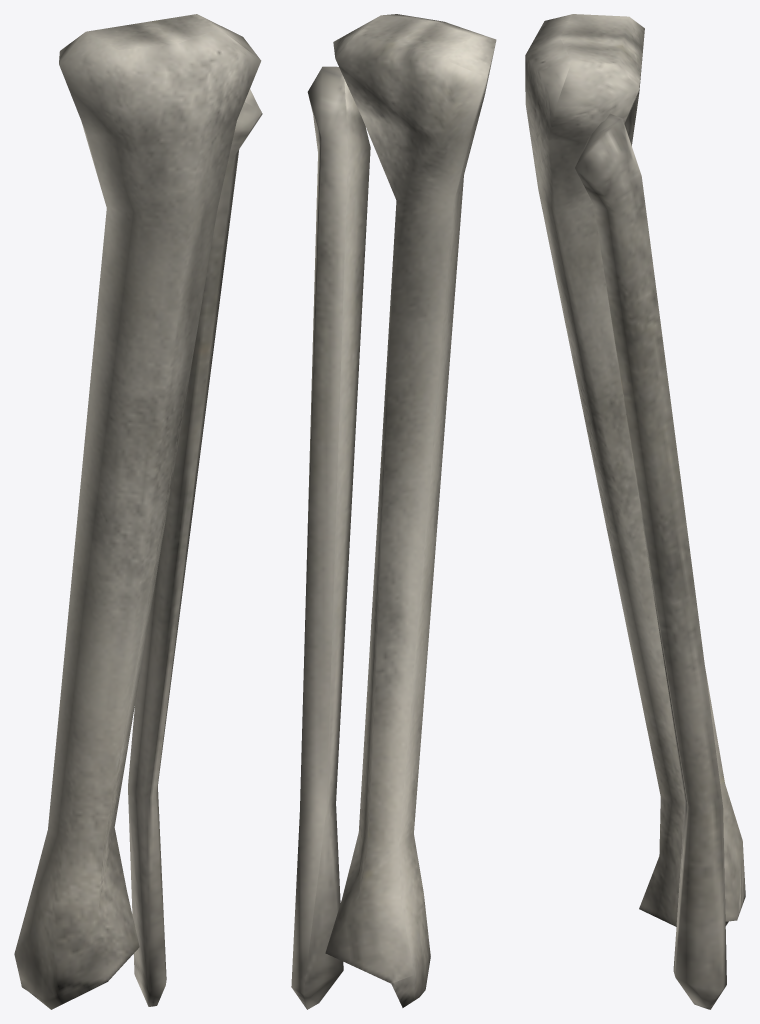
File: piernaIzq.obj
The picture shows the model from 3 angles, left to right: view 1: azimuth 30°, elevation 25°; view 2: azimuth 150°, elevation 25°; view 3: azimuth 270°, elevation 25°; orthographic projection. The views are drawn at different scales.
Visible parts, largest first — view 1: piernaIzq; view 2: piernaIzq; view 3: piernaIzq.
Part boxes in pixels (bbox=[...]): piernaIzq: bbox=[14, 14, 262, 1009]; piernaIzq: bbox=[291, 14, 496, 1009]; piernaIzq: bbox=[525, 14, 745, 1009].
Size of the model in its own units: 0.0965 by 0.4849 by 0.1022.
